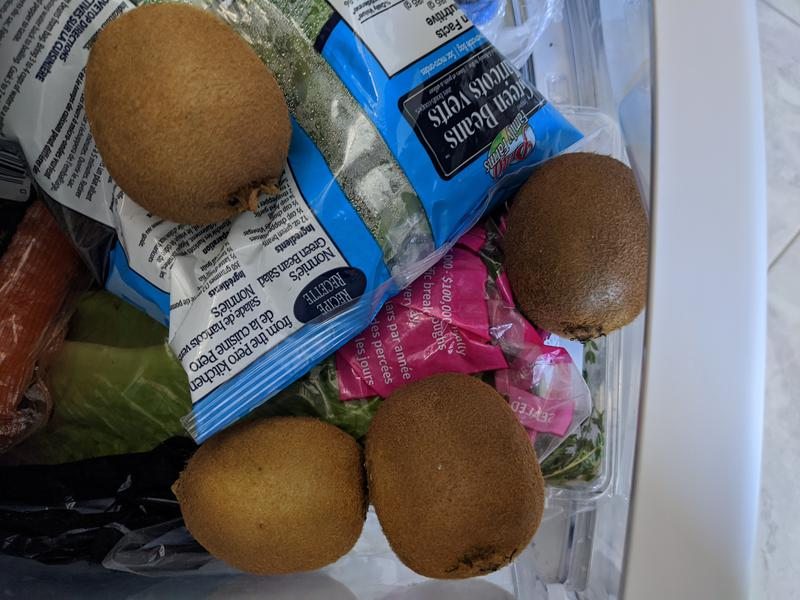kiwi: (85, 2, 292, 225), (364, 373, 546, 580), (173, 413, 369, 574), (501, 151, 652, 340)
